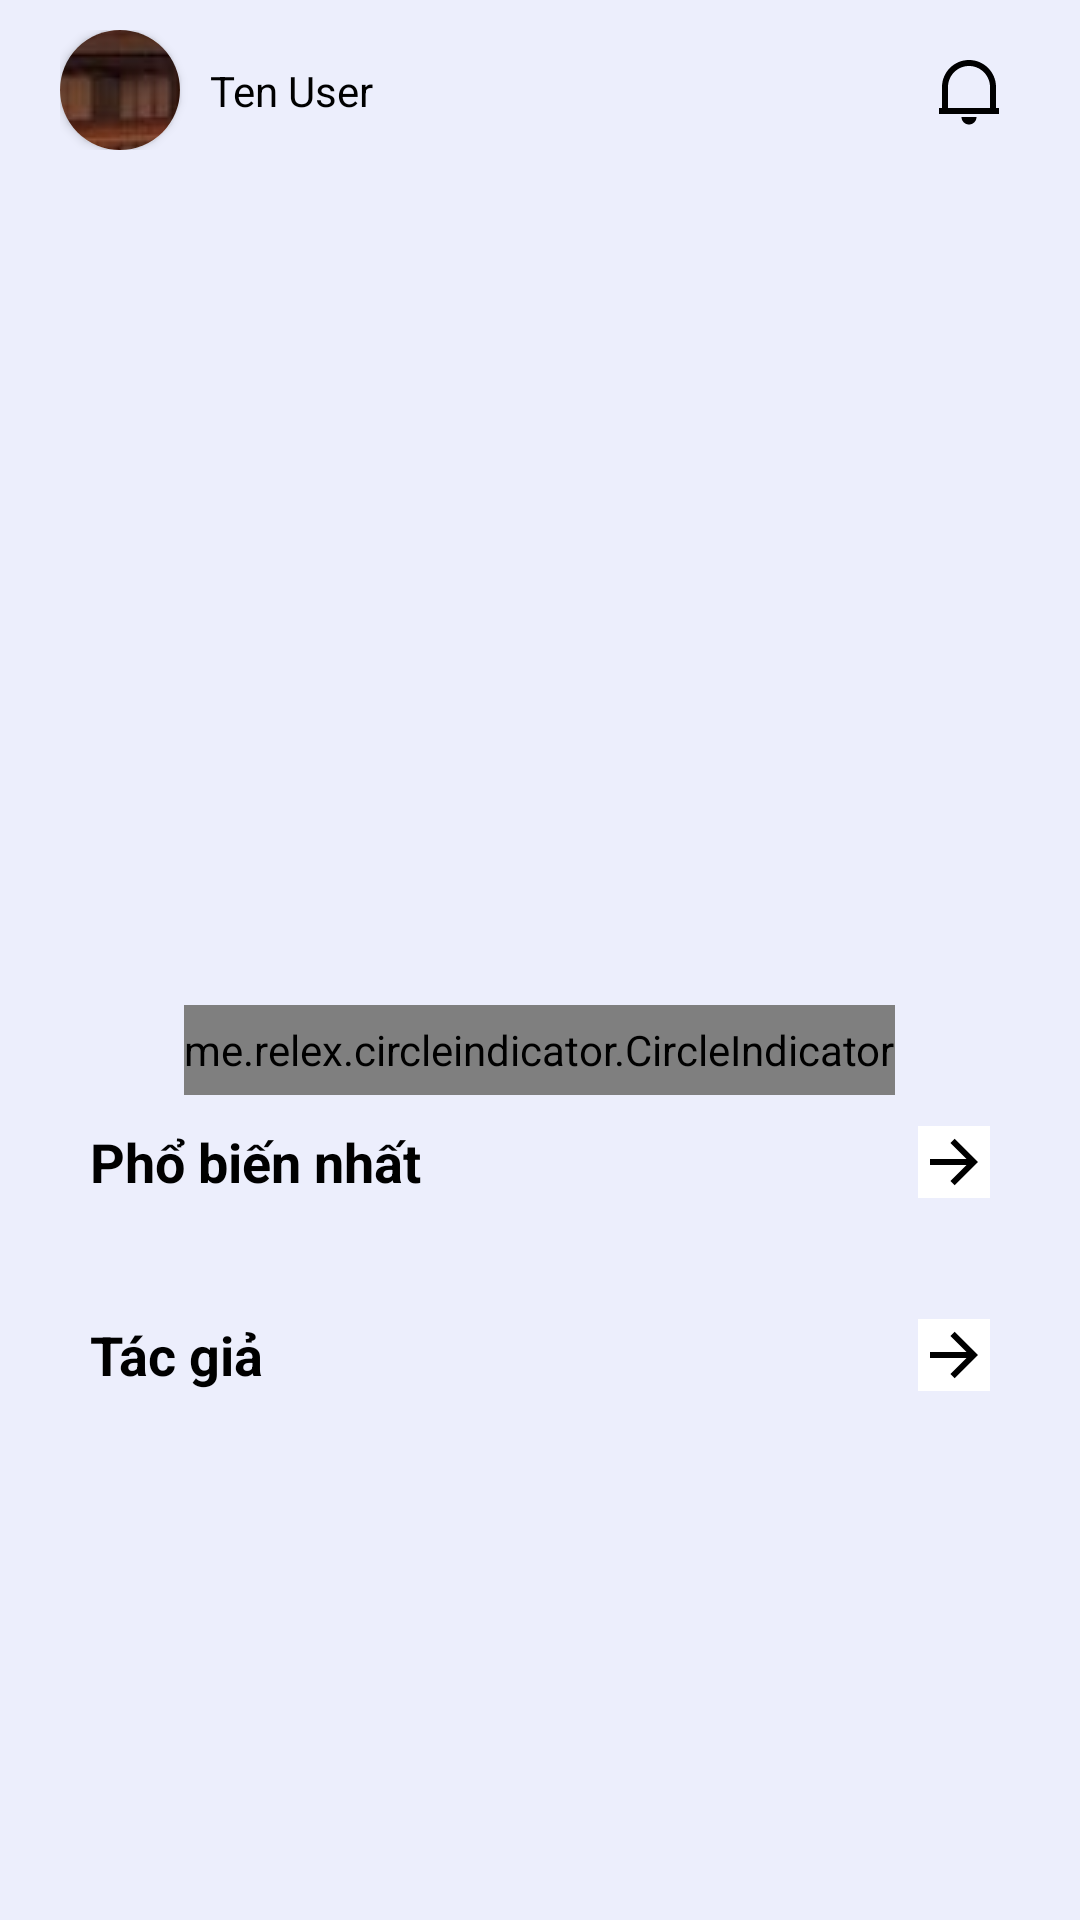

Screen size 1080px×1920px. Icon name, then its center in pixels as point (x, y):
arrow right line: point (954, 1162), point (954, 1355)
notification line: point (969, 92)
